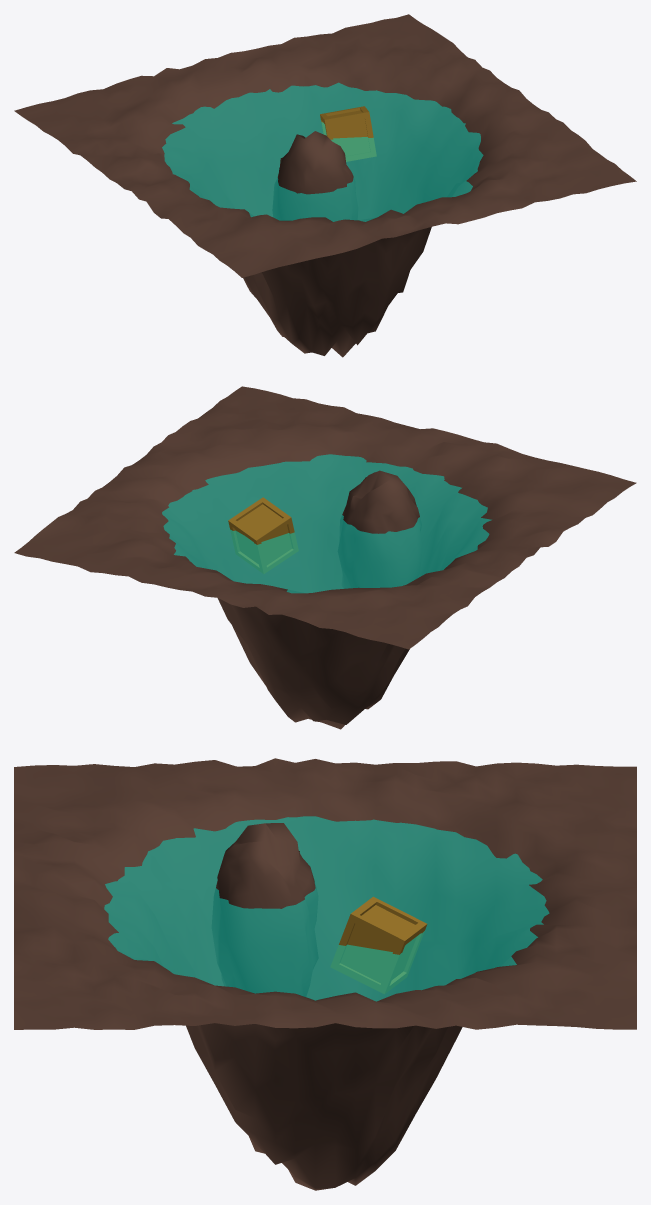
Rendered from SM_Water.fbx.
3 renders of one model, top to bottom at view 1: azimuth 30°, elevation 25°; view 2: azimuth 150°, elevation 25°; view 3: azimuth 270°, elevation 25°, orthographic. The views are drawn at different scales.
Visible parts, largest first — view 1: SM_WateringHole; view 2: SM_WateringHole; view 3: SM_WateringHole.
Part boxes in pixels (x1,y1,x2,y2): SM_WateringHole: (14,14,636,357); SM_WateringHole: (14,386,636,729); SM_WateringHole: (14,758,636,1190).
Size of the model in its own units: 500 by 296 by 500.
